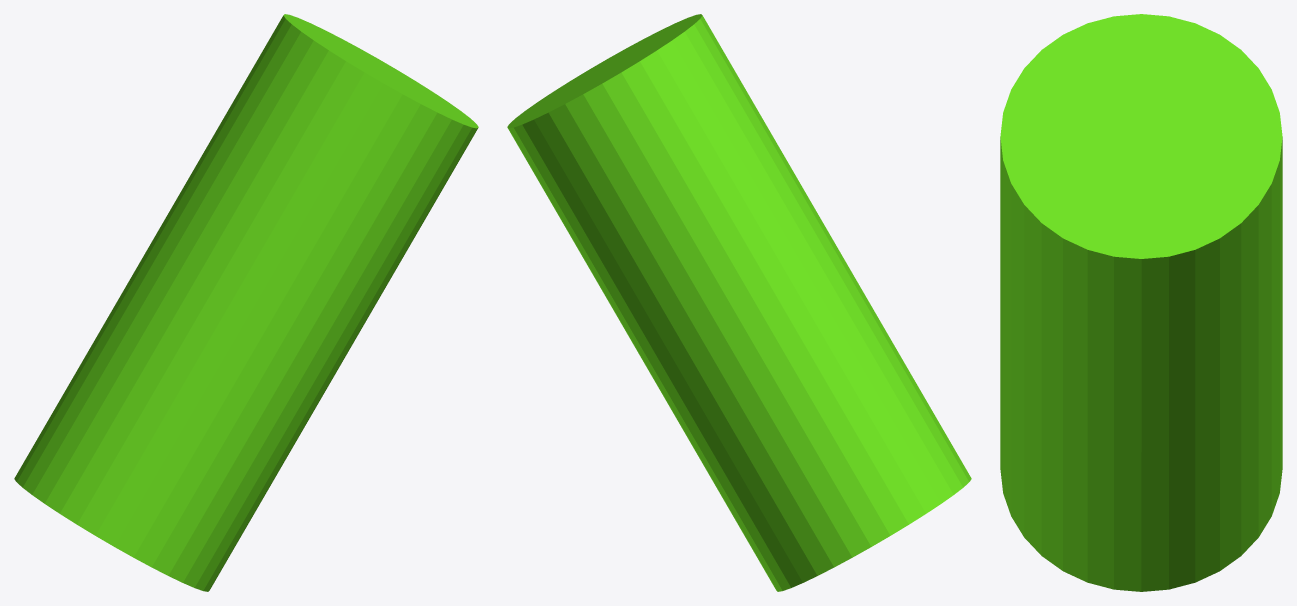
File: Uranium.glb
3 views of the same model, side by side, from view 1: azimuth 30°, elevation 25°; view 2: azimuth 150°, elevation 25°; view 3: azimuth 270°, elevation 25° (orthographic). The views are drawn at different scales.
Visible parts, largest first — view 1: Cylinder; view 2: Cylinder; view 3: Cylinder.
Boxes of the visible parts, left/top/right/bottom form: Cylinder: left=14, top=14, right=478, bottom=591; Cylinder: left=507, top=14, right=971, bottom=591; Cylinder: left=1000, top=14, right=1282, bottom=591.
Size of the model in its own units: 0.3659 by 0.4208 by 0.1669.
